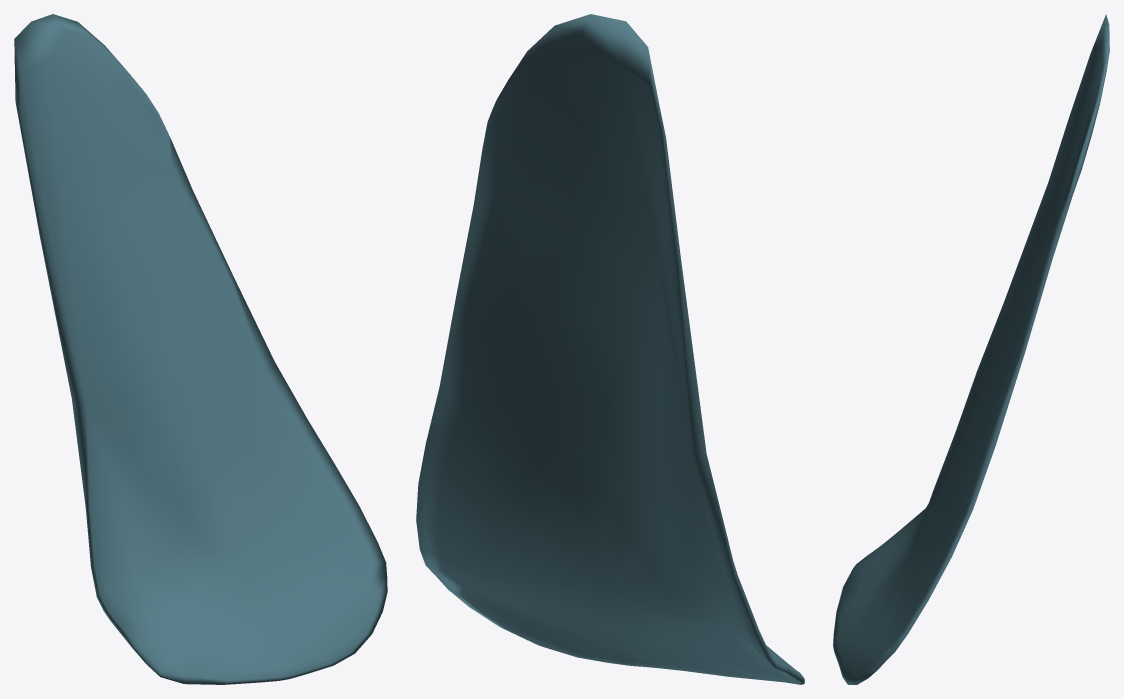
The model's file is Pronator_quadratus-Radial_insertions.l_Generated_Mesh_From_X3D..glb.
The picture shows the model from 3 angles, left to right: view 1: azimuth 30°, elevation 25°; view 2: azimuth 150°, elevation 25°; view 3: azimuth 270°, elevation 25°; orthographic projection. The views are drawn at different scales.
Parts seen in each view (by area): view 1: Pronator_quadratus-Radial_insertions.l_Generated_Mesh_From_X; view 2: Pronator_quadratus-Radial_insertions.l_Generated_Mesh_From_X; view 3: Pronator_quadratus-Radial_insertions.l_Generated_Mesh_From_X.
Boxes of the visible parts, x1,y1,x2,y2 form: Pronator_quadratus-Radial_insertions.l_Generated_Mesh_From_X: (14, 14, 387, 684); Pronator_quadratus-Radial_insertions.l_Generated_Mesh_From_X: (416, 14, 804, 684); Pronator_quadratus-Radial_insertions.l_Generated_Mesh_From_X: (833, 14, 1109, 684).
Size of the model in its own units: 0.0227 by 0.0475 by 0.0204.
